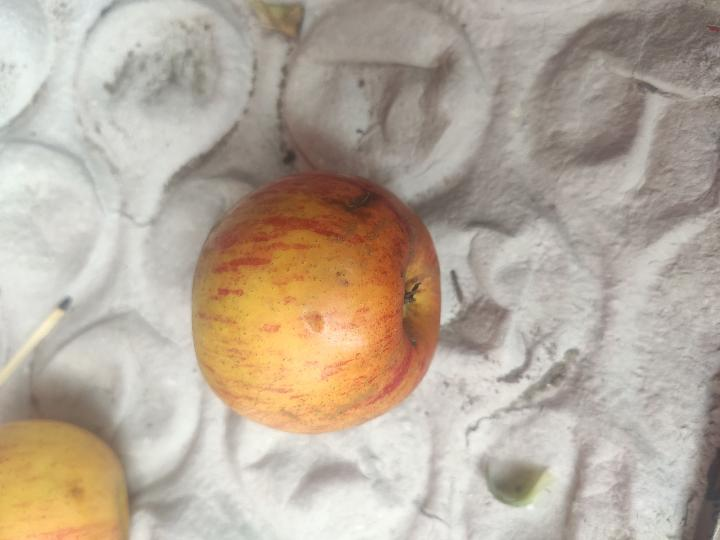apple: (192, 173, 440, 433)
bruise_discoloration: (323, 384, 383, 421), (325, 220, 359, 244), (368, 218, 390, 240), (365, 245, 373, 257)
surface_damage: (302, 311, 325, 334), (348, 192, 372, 210)
